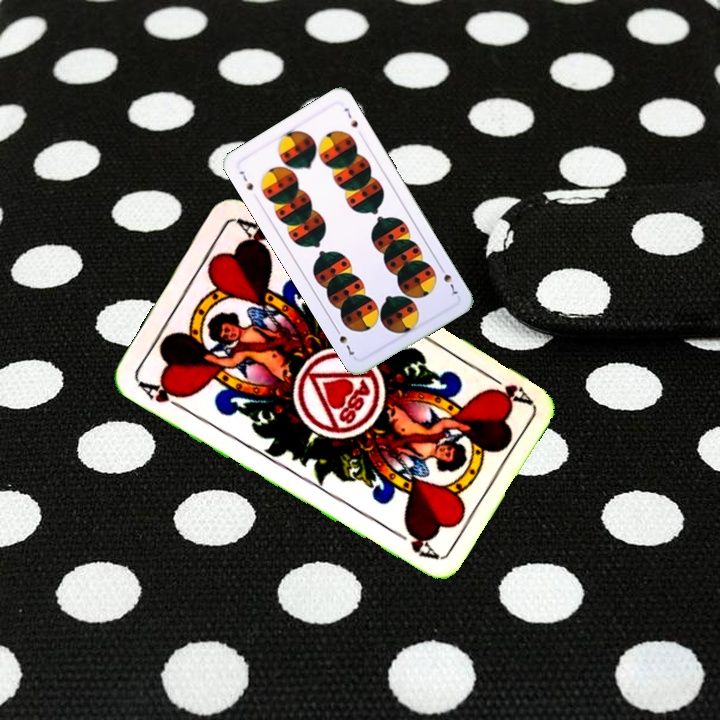HA: (479, 367, 534, 408), (133, 376, 188, 413)
S7: (435, 262, 460, 298), (235, 167, 256, 193)
